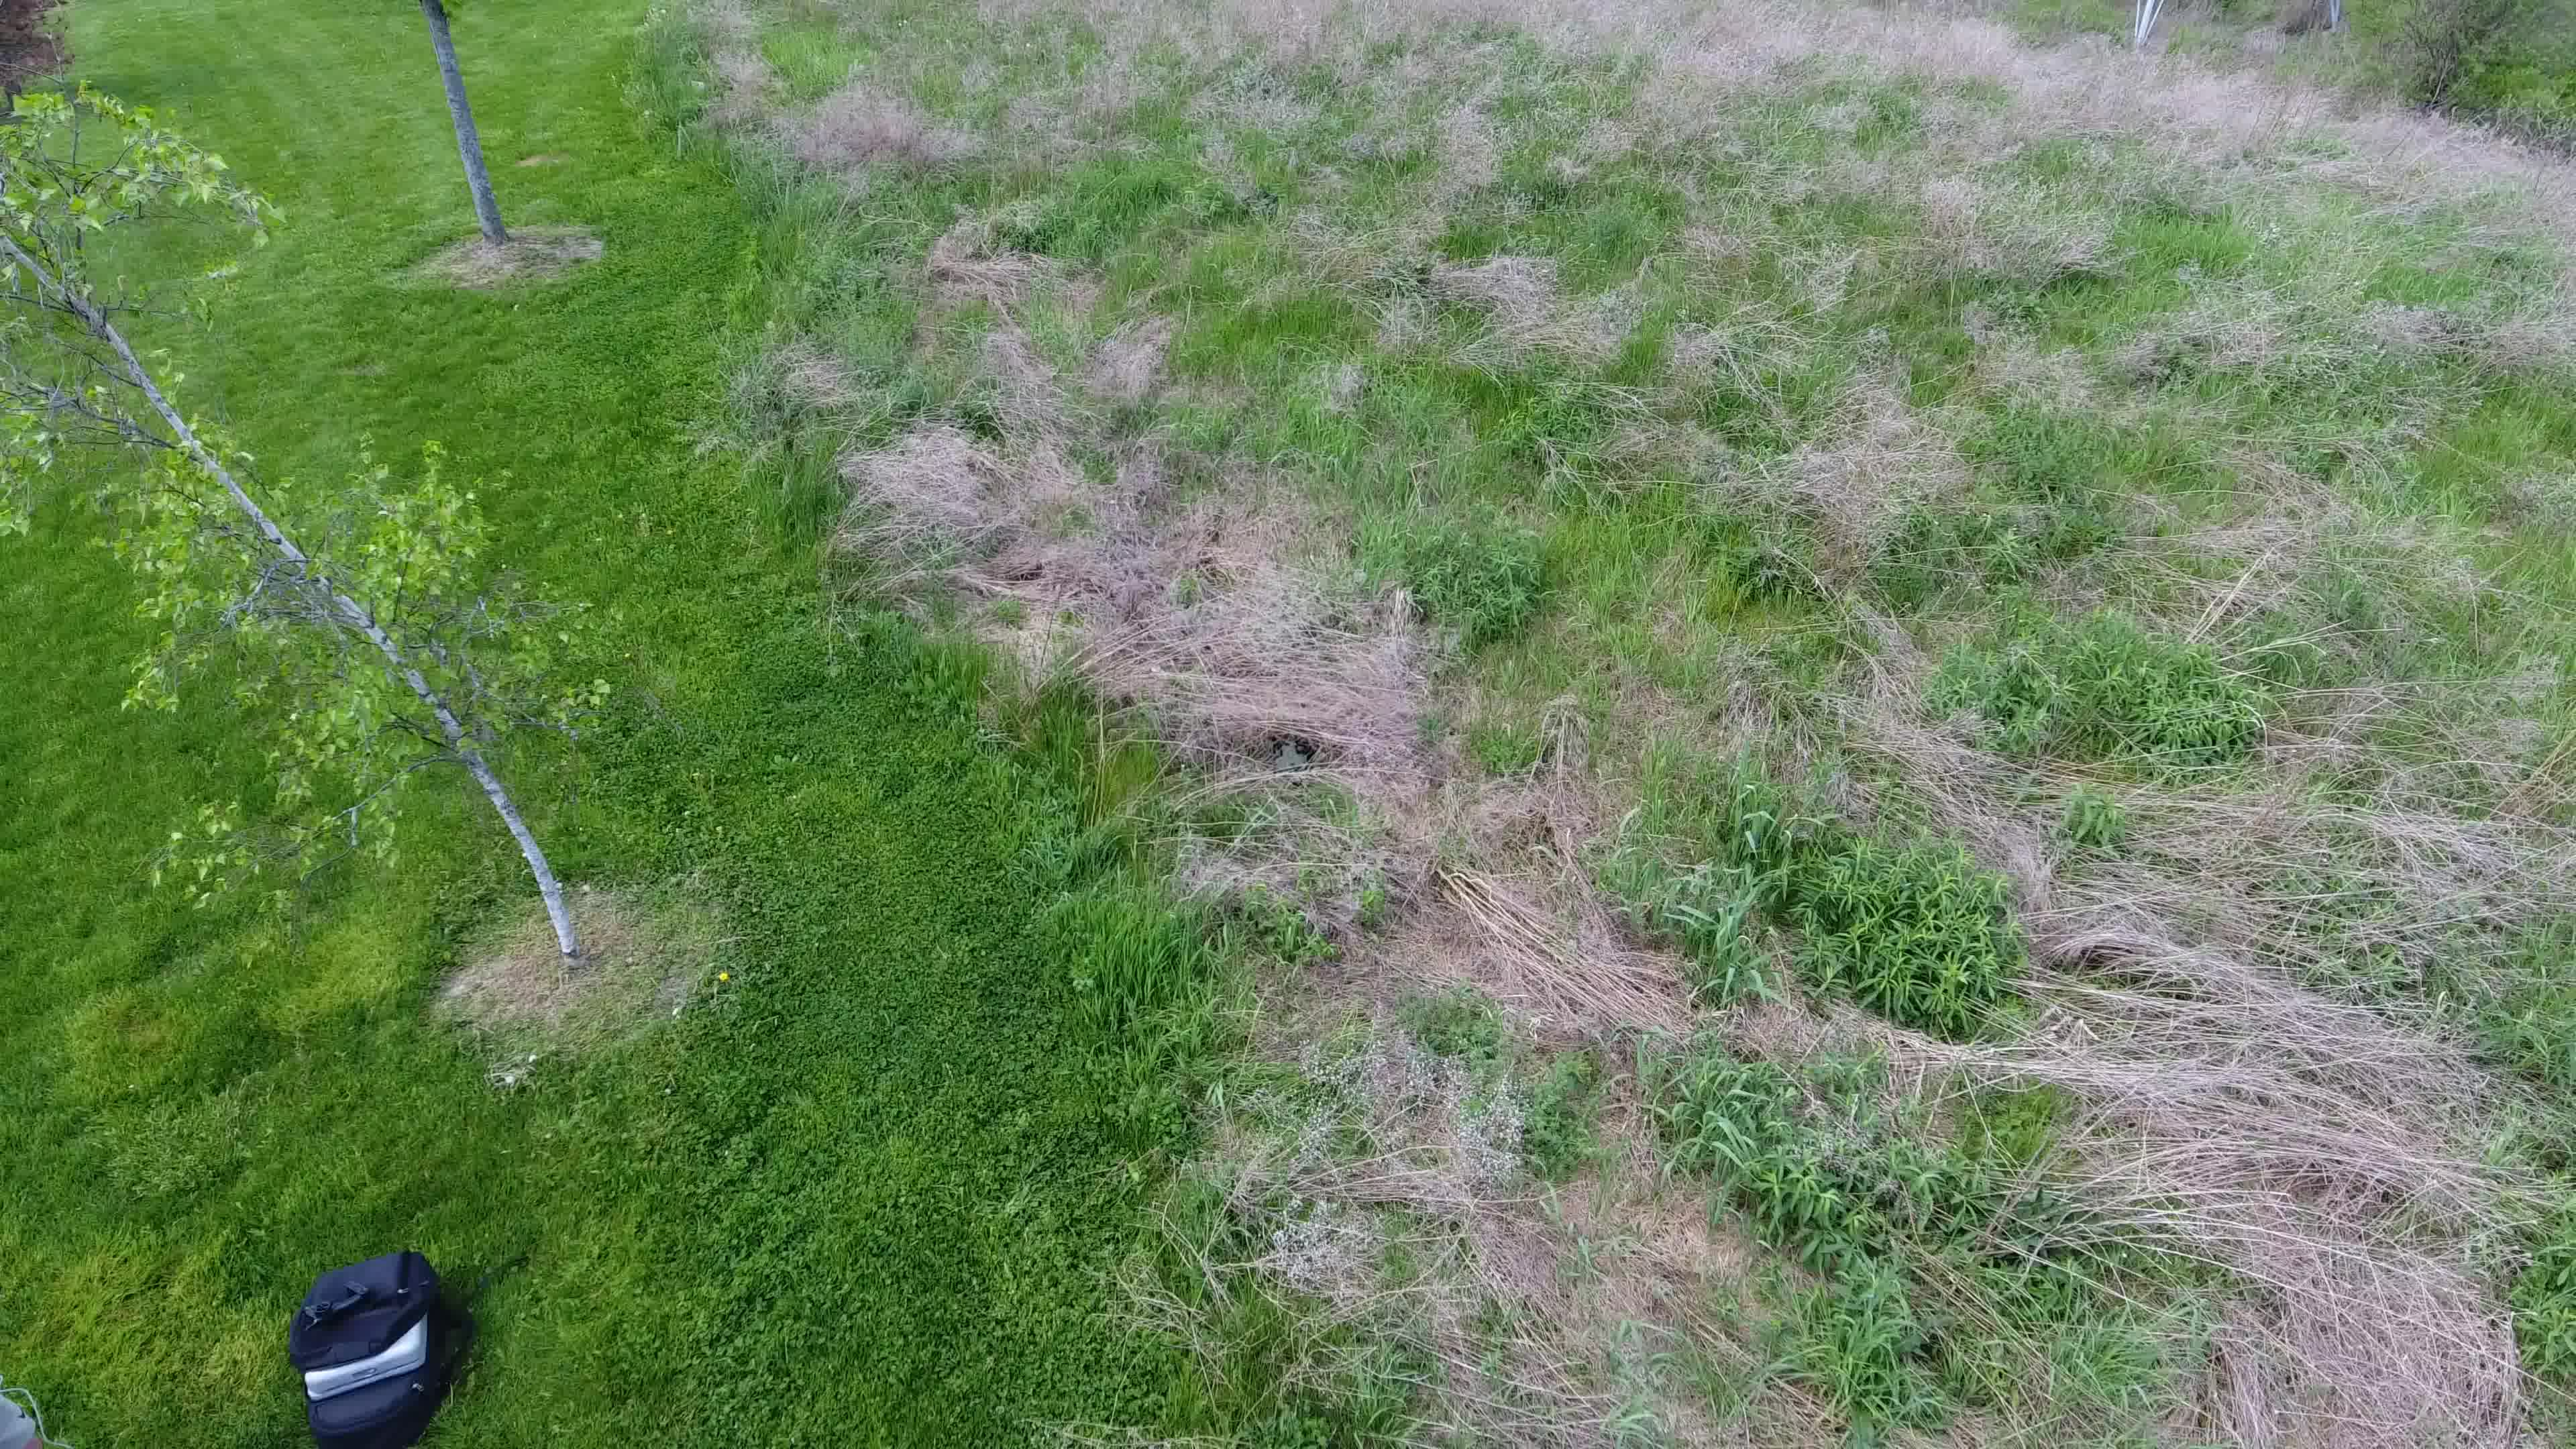transporter9: (1270, 738, 1311, 773)
